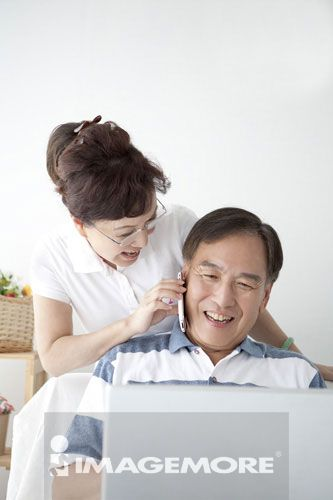phone: (173, 267, 189, 337)
talk: (129, 254, 267, 353)
